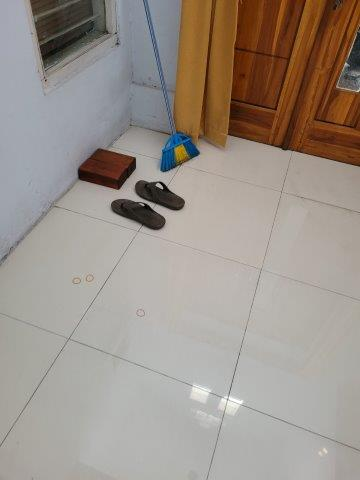karet: (69, 273, 95, 285), (135, 308, 146, 319)
